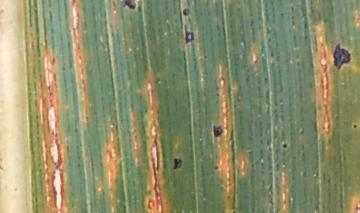tarspot: (332, 42, 352, 71), (183, 22, 195, 45), (212, 123, 223, 138), (120, 1, 138, 10), (172, 156, 182, 170), (181, 7, 190, 16), (281, 142, 288, 150), (213, 164, 219, 171), (202, 53, 209, 59), (76, 161, 81, 168), (352, 123, 357, 129)
